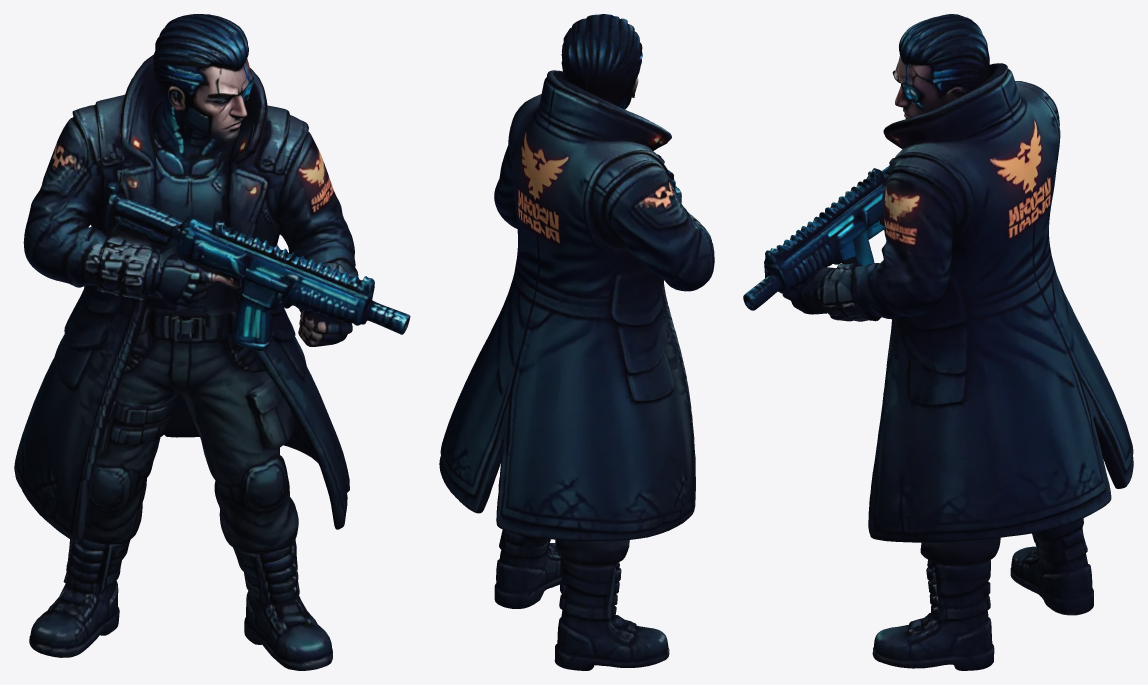
The model's file is player.glb.
3 views of the same model, side by side, from view 1: azimuth 30°, elevation 25°; view 2: azimuth 150°, elevation 25°; view 3: azimuth 270°, elevation 25° (orthographic). The views are drawn at different scales.
Visible parts, largest first — view 1: tmpku_9jphpobj; view 2: tmpku_9jphpobj; view 3: tmpku_9jphpobj.
Part boxes in pixels (bbox=[...]): tmpku_9jphpobj: bbox=[14, 14, 410, 670]; tmpku_9jphpobj: bbox=[439, 14, 714, 670]; tmpku_9jphpobj: bbox=[743, 14, 1133, 670].
Size of the model in its own units: 0.4725 by 0.9999 by 0.5859.
1 material, 1 textured.
